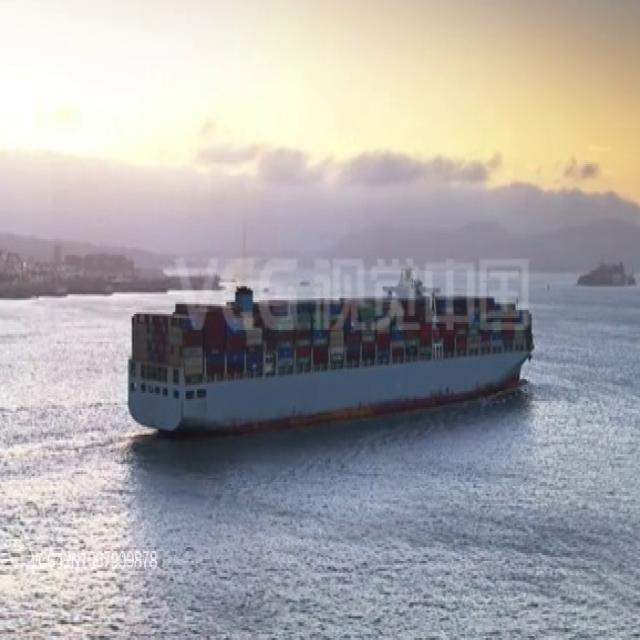cargoship: (125, 271, 534, 432)
